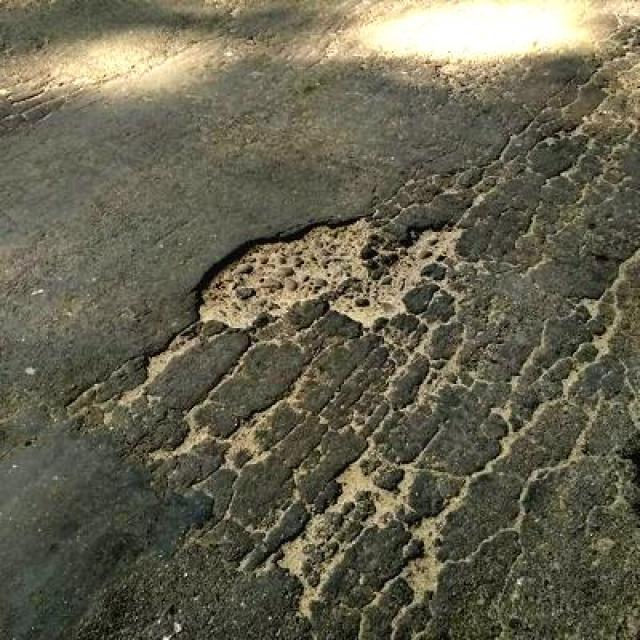pothole: (188, 213, 466, 336)
